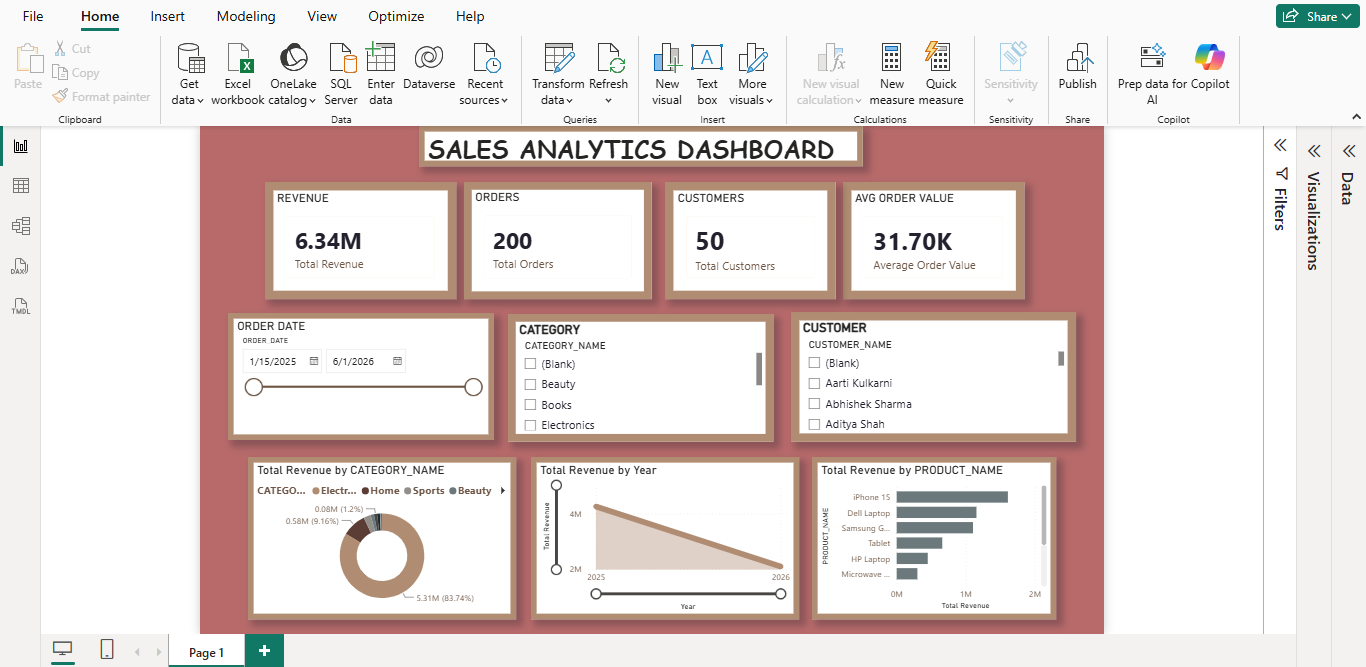

The dashboard page shown, as its layout file describes it:
{"tool":"powerbi","page":{"name":"Page 1","canvas":[1280,720],"ordinal":0},"visuals":[{"type":"lineChart","fields":{"Category":["ORDERS.ORDER_DATE.Variation.Date Hierarchy.Year","ORDERS.ORDER_DATE.Variation.Date Hierarchy.Quarter","ORDERS.ORDER_DATE.Variation.Date Hierarchy.Month","ORDERS.ORDER_DATE.Variation.Date Hierarchy.Day"],"Y":["ORDER_ITEMS.Total Revenue"]},"box":[469.1,469.1,379.8,229.6],"z":3002},{"type":"donutChart","fields":{"Category":["CATEGORIES.CATEGORY_NAME"],"Y":["ORDER_ITEMS.Total Revenue"]},"box":[68,469.1,379.8,229.6],"z":3003},{"type":"clusteredBarChart","fields":{"Y":["ORDER_ITEMS.Total Revenue"],"Category":["PRODUCTS.PRODUCT_NAME"]},"box":[867.4,469.1,345.8,229.6],"z":3005},{"type":"slicer","title":"ORDER DATE","fields":{"Values":["ORDERS.ORDER_DATE"]},"box":[39.7,265,377,180],"z":3006},{"type":"slicer","title":"CATEGORY","fields":{"Values":["CATEGORIES.CATEGORY_NAME"]},"box":[436.5,266.5,375.6,181.4],"z":3007},{"type":"slicer","title":"CUSTOMER","fields":{"Values":["CUSTOMERS.CUSTOMER_NAME"]},"box":[837.6,263.6,403.9,184.3],"z":3008},{"type":"cardVisual","title":"AVG ORDER VALUE","fields":{"Data":["ORDER_ITEMS.Average Order Value"]},"box":[911.3,79.4,256.5,165.8],"z":3009},{"type":"cardVisual","title":"REVENUE","fields":{"Data":["ORDER_ITEMS.Total Revenue"]},"box":[92.1,79.4,270.7,165.8],"z":3010},{"type":"cardVisual","title":"CUSTOMERS","fields":{"Data":["CUSTOMERS.Total Customers"]},"box":[659.1,79.4,242.4,165.8],"z":3011},{"type":"cardVisual","title":"ORDERS","fields":{"Data":["ORDERS.Total Orders"]},"box":[374.2,79.4,266.5,165.8],"z":3012},{"type":"textbox","title":" SALES ANALYTICS DASHBOARD    ","box":[310.4,0,629.3,56.7],"z":3013}]}

Visuals, with their boxes on the page's 1280x720 design canvas (x1, y1, x2, y2). These are canvas units, not pixel positions in the 1366x667 screenshot, which may show the page scaled, cropped or inside an application window:
lineChart - ORDERS.ORDER_DATE.Variation.Date Hierarchy.Year x ORDERS.ORDER_DATE.Variation.Date Hierarchy.Quarter: 469, 469, 849, 699
donutChart - CATEGORIES.CATEGORY_NAME x ORDER_ITEMS.Total Revenue: 68, 469, 448, 699
clusteredBarChart - ORDER_ITEMS.Total Revenue x PRODUCTS.PRODUCT_NAME: 867, 469, 1213, 699
"ORDER DATE" slicer: 40, 265, 417, 445
"CATEGORY" slicer: 436, 266, 812, 448
"CUSTOMER" slicer: 838, 264, 1242, 448
"AVG ORDER VALUE" cardVisual: 911, 79, 1168, 245
"REVENUE" cardVisual: 92, 79, 363, 245
"CUSTOMERS" cardVisual: 659, 79, 902, 245
"ORDERS" cardVisual: 374, 79, 641, 245
" SALES ANALYTICS DASHBOARD    " textbox: 310, 0, 940, 57
